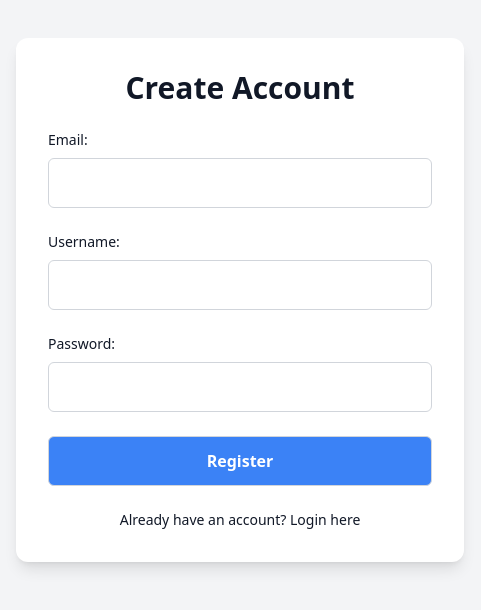
Test: RegisterPage › should show error message when registration fails
// Simula al usuario escribiendo y haciendo clic
In the field labelled "Email:": x=240, y=183 [48,158,432,208], type "duplicate@user.com"
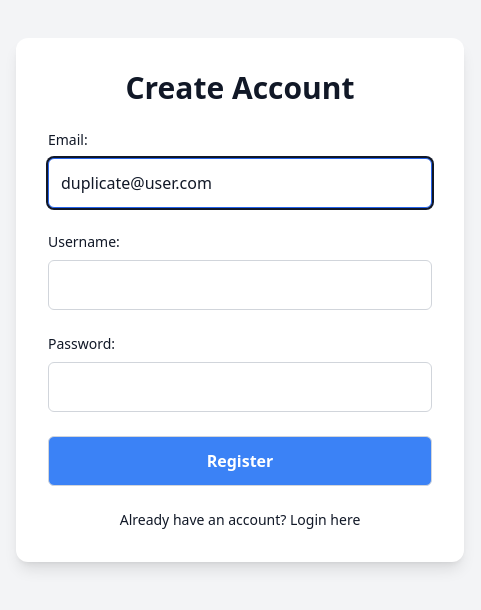
In the field labelled "Username:": x=240, y=285 [48,260,432,310], type "takenuser"
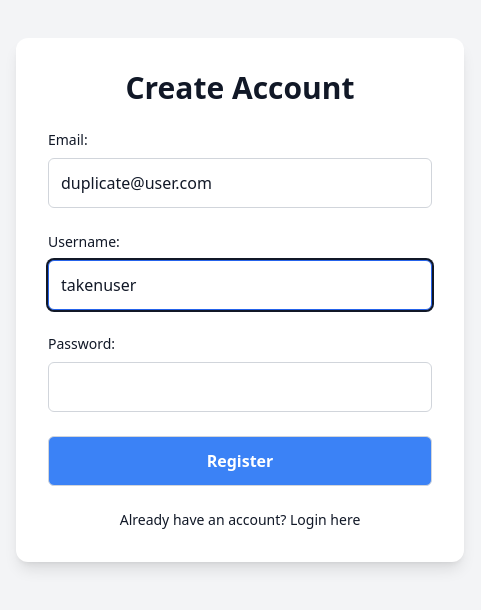
In the password field labelled "Password:": x=240, y=387 [48,362,432,412], type "password123"
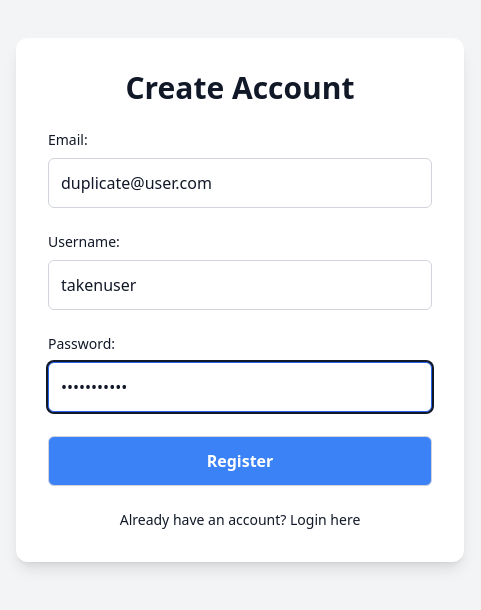
Click the button "Register": x=240, y=461 [48,436,432,486]
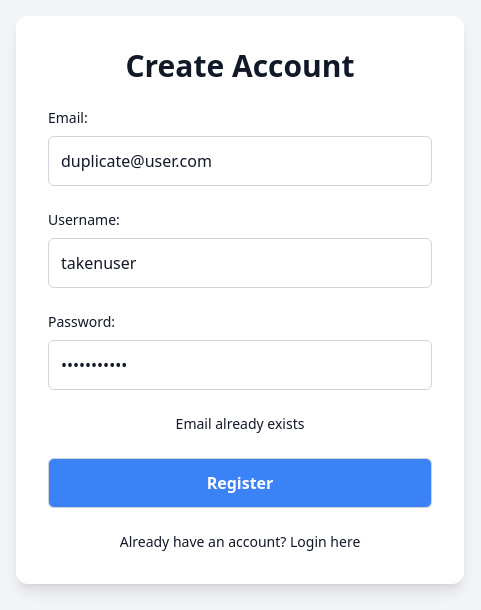
Now the text "Email already exists" is shown, box [176,414,304,433]
